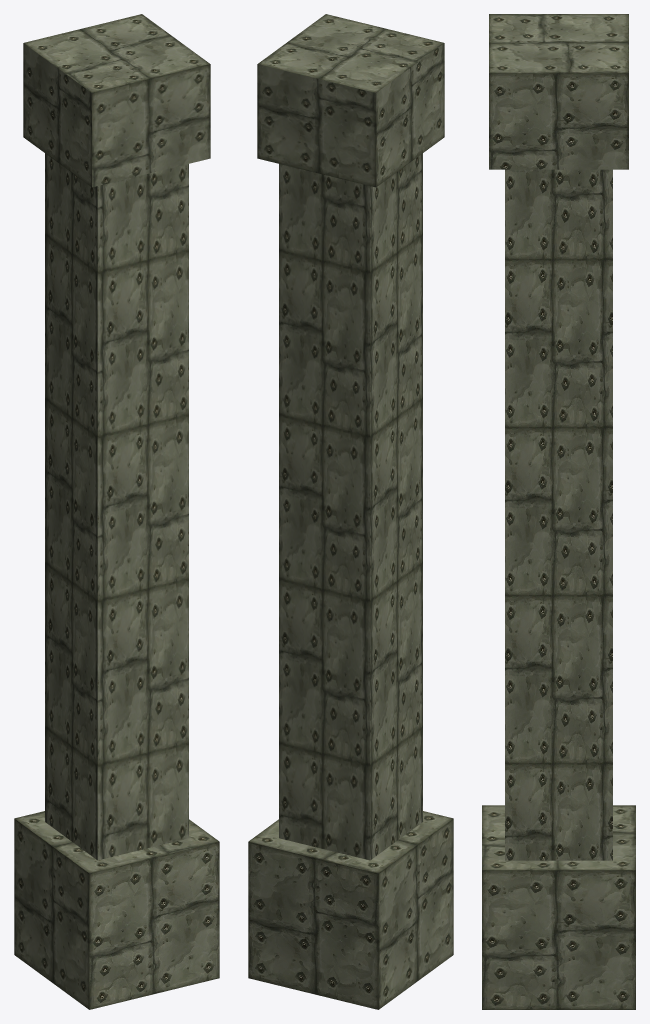
Rendered from pillar_metal2.glb.
The picture shows the model from 3 angles, left to right: view 1: azimuth 30°, elevation 25°; view 2: azimuth 150°, elevation 25°; view 3: azimuth 270°, elevation 25°; orthographic projection. The views are drawn at different scales.
Visible parts, largest first — view 1: Cube; view 2: Cube; view 3: Cube.
Part boxes in pixels (x1,y1,x2,y2): Cube: (14,14,219,1009); Cube: (248,14,453,1009); Cube: (482,14,635,1009).
Size of what is drawn, in the model's own units: 0.8 by 5.35 by 0.8.
1 material, 1 textured.
